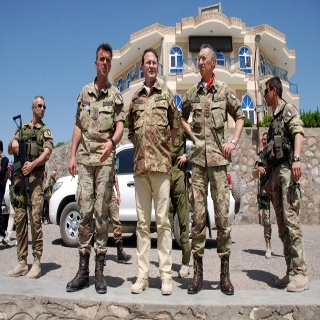rifle: (11, 114, 40, 231)
